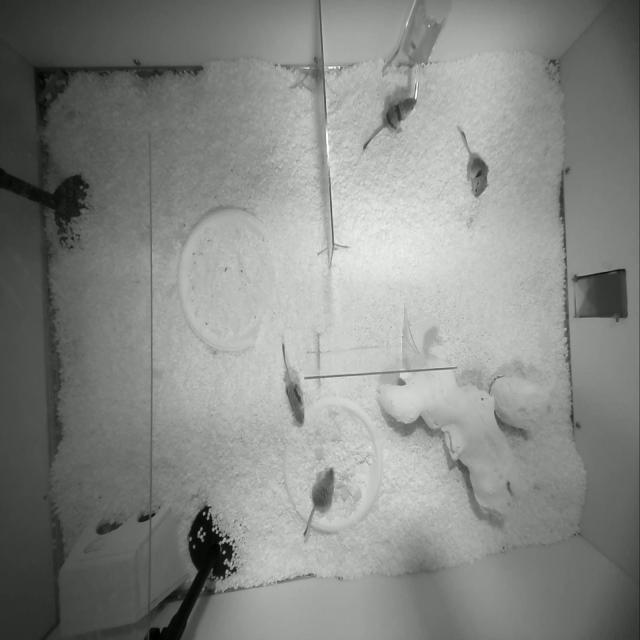pup_fluffy: (304, 468, 334, 536)
pup_h_stripe: (363, 97, 416, 150)
pup_spotted: (458, 126, 488, 197)
pup_v_stripe: (282, 343, 304, 423)
